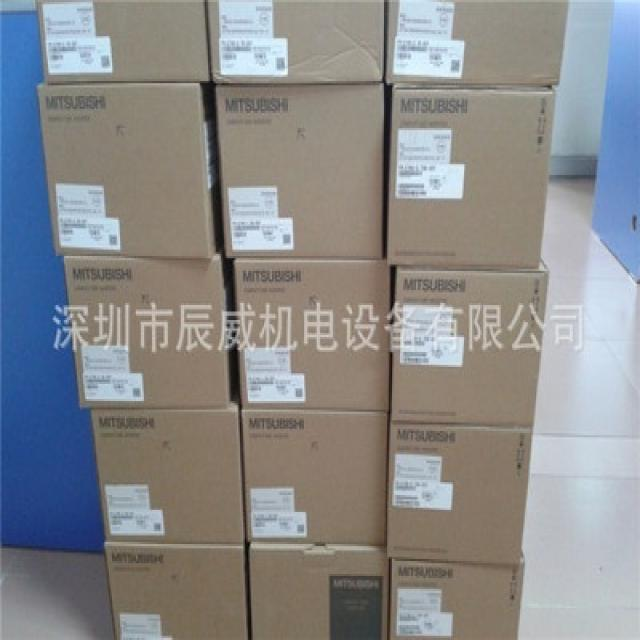box: (37, 81, 224, 258), (387, 85, 555, 271), (214, 81, 384, 260), (392, 256, 549, 429), (62, 254, 232, 412), (234, 258, 392, 412), (94, 405, 246, 542), (389, 427, 533, 565), (242, 410, 387, 546), (381, 0, 570, 85), (34, 0, 211, 87), (206, 0, 384, 85), (250, 540, 390, 640), (107, 540, 245, 640), (390, 559, 525, 640)
